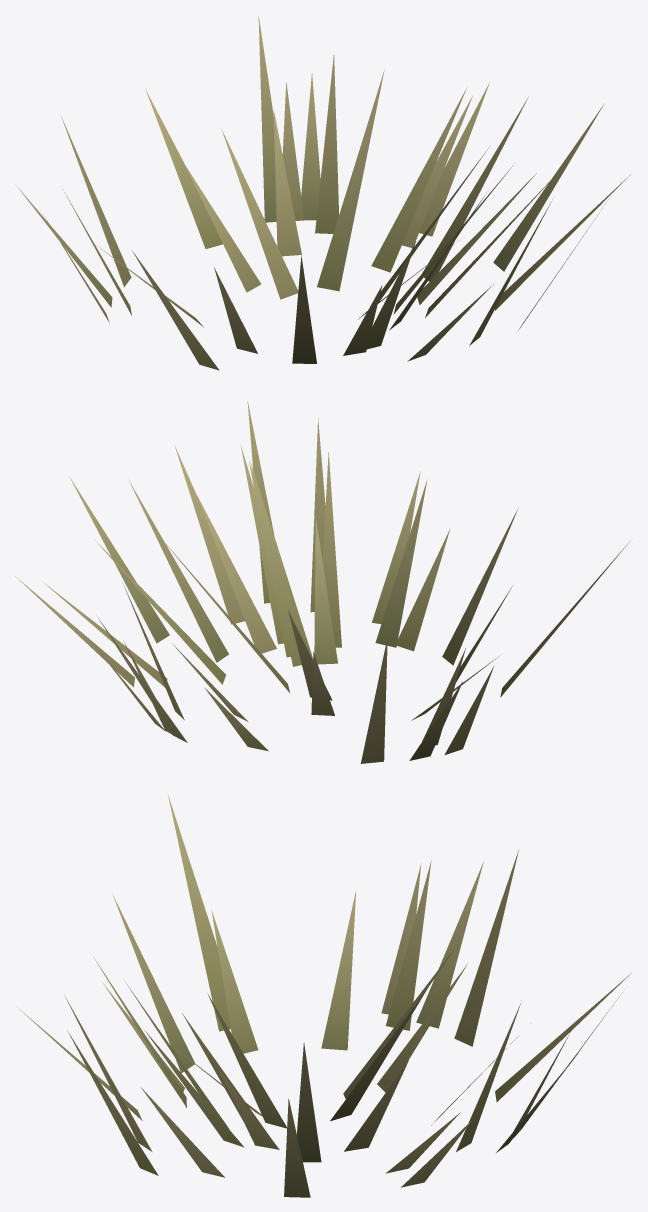
File: env_spinifex.glb
3 renders of one model, top to bottom at view 1: azimuth 30°, elevation 25°; view 2: azimuth 150°, elevation 25°; view 3: azimuth 270°, elevation 25°, orthographic. The views are drawn at different scales.
Visible parts, largest first — view 1: env_spinifex; view 2: env_spinifex; view 3: env_spinifex.
Boxes of the visible parts, x1,y1,x2,y2 form: env_spinifex: (15, 16, 630, 370); env_spinifex: (15, 401, 628, 763); env_spinifex: (16, 795, 631, 1197).
Size of the model in its own units: 1.97 by 0.5954 by 1.85.
